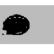correct: (2, 13, 31, 39)
